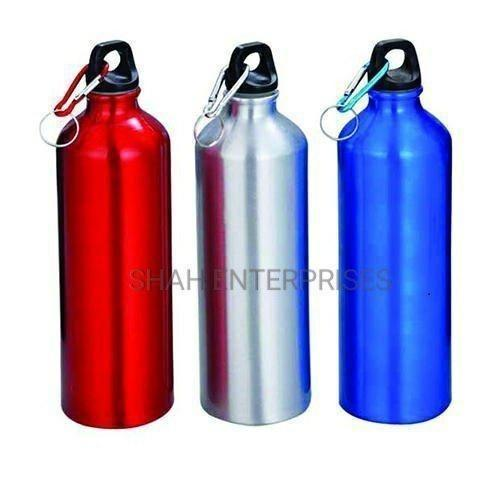gym bottle: (54, 37, 177, 433), (333, 34, 456, 426), (192, 40, 314, 427)
